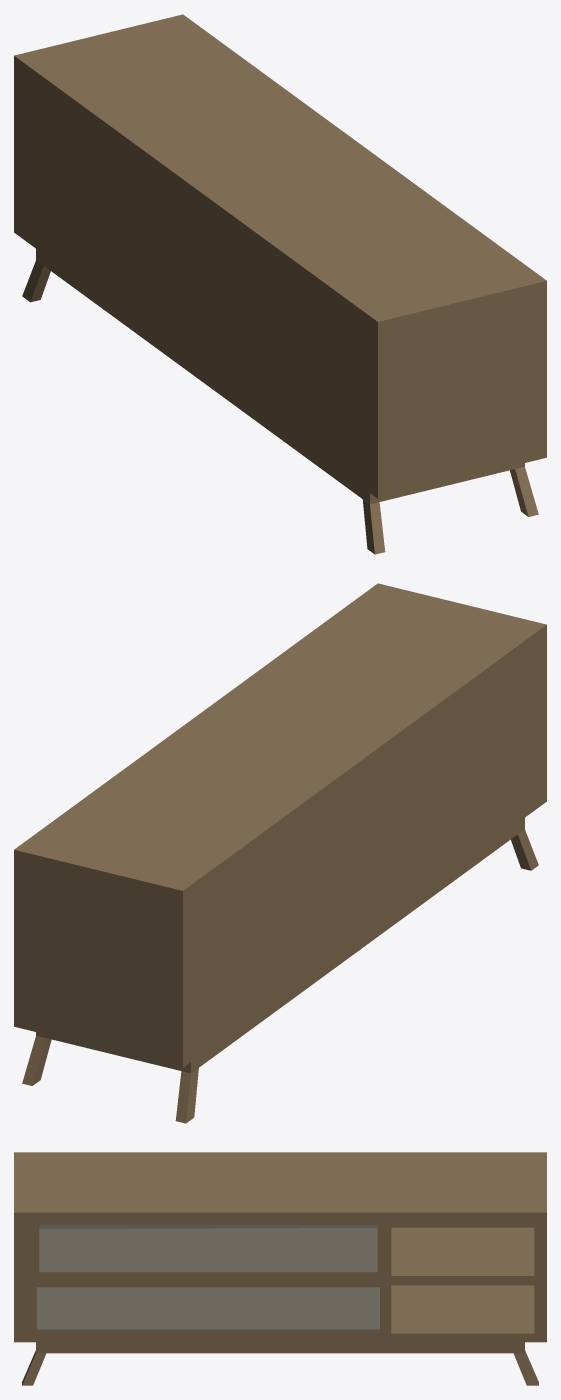
The model's file is Console Table.fbx.
3 views of the same model, one above another, from view 1: azimuth 30°, elevation 25°; view 2: azimuth 150°, elevation 25°; view 3: azimuth 270°, elevation 25° (orthographic). The views are drawn at different scales.
Visible parts, largest first — view 1: ConsoleTable; view 2: ConsoleTable; view 3: ConsoleTable.
Part boxes in pixels (<box>): ConsoleTable: <box>14,14,546,554</box>; ConsoleTable: <box>14,583,546,1123</box>; ConsoleTable: <box>14,1152,546,1385</box>.
Size of the model in its own units: 27.48 by 36.86 by 102.
